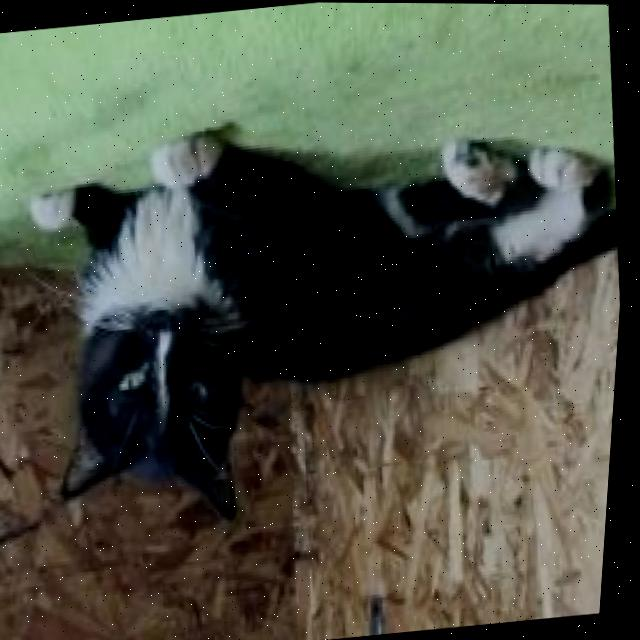Tuxedo: (3, 79, 636, 547)
